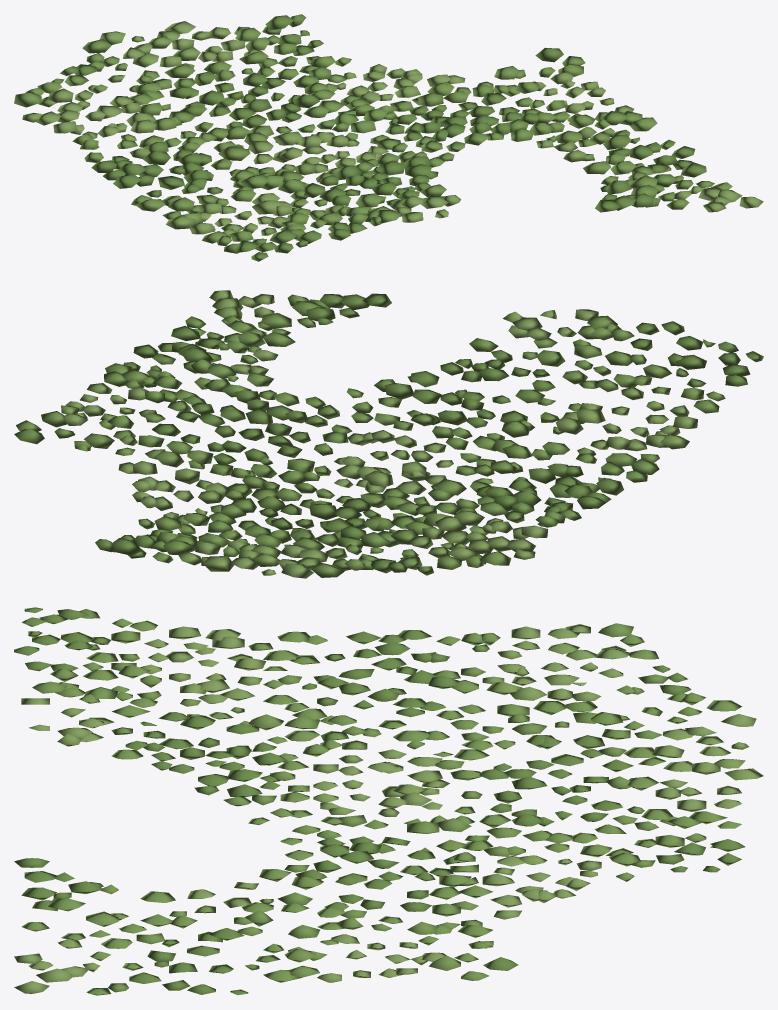
Rendered from canopy-1-3--6.glb.
3 views of the same model, one above another, from view 1: azimuth 30°, elevation 25°; view 2: azimuth 150°, elevation 25°; view 3: azimuth 270°, elevation 25° (orthographic). The views are drawn at different scales.
Size of the model in its own units: 518 by 77.5 by 520.
Materials: 1 (1 with a texture image).
